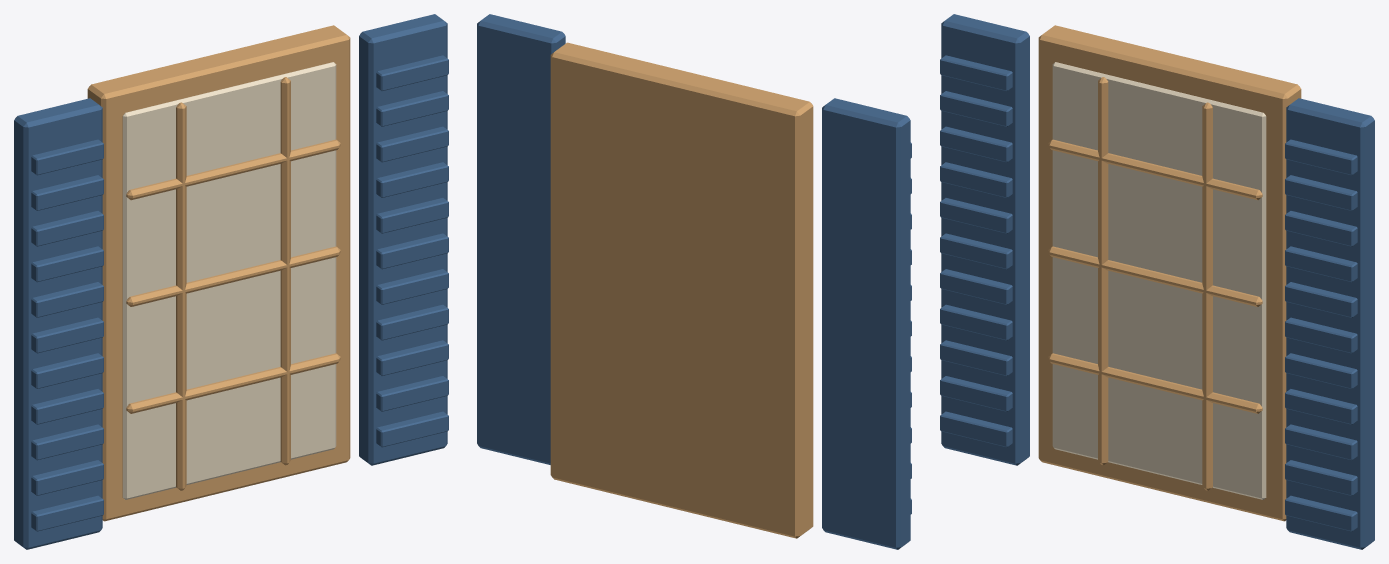
Rendered from window-shutters.glb.
3 views of the same model, side by side, from view 1: azimuth 30°, elevation 25°; view 2: azimuth 150°, elevation 25°; view 3: azimuth 330°, elevation 25° (orthographic).
Visible parts, largest first — view 1: window_shutters; view 2: window_shutters; view 3: window_shutters.
Boxes of the visible parts, left/top/right/bottom form: window_shutters: left=14, top=14, right=448, bottom=549; window_shutters: left=477, top=14, right=911, bottom=549; window_shutters: left=940, top=14, right=1374, bottom=549.
Bounding box in the file's own units: 1.87 × 1.8 × 0.2475.
